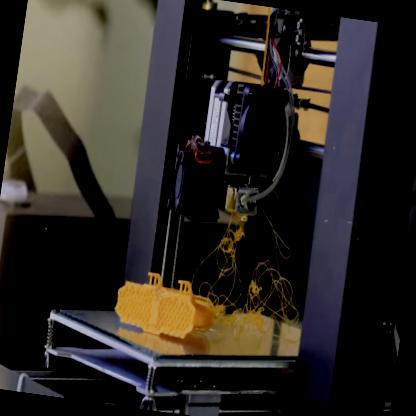fail: (192, 208, 309, 344)
